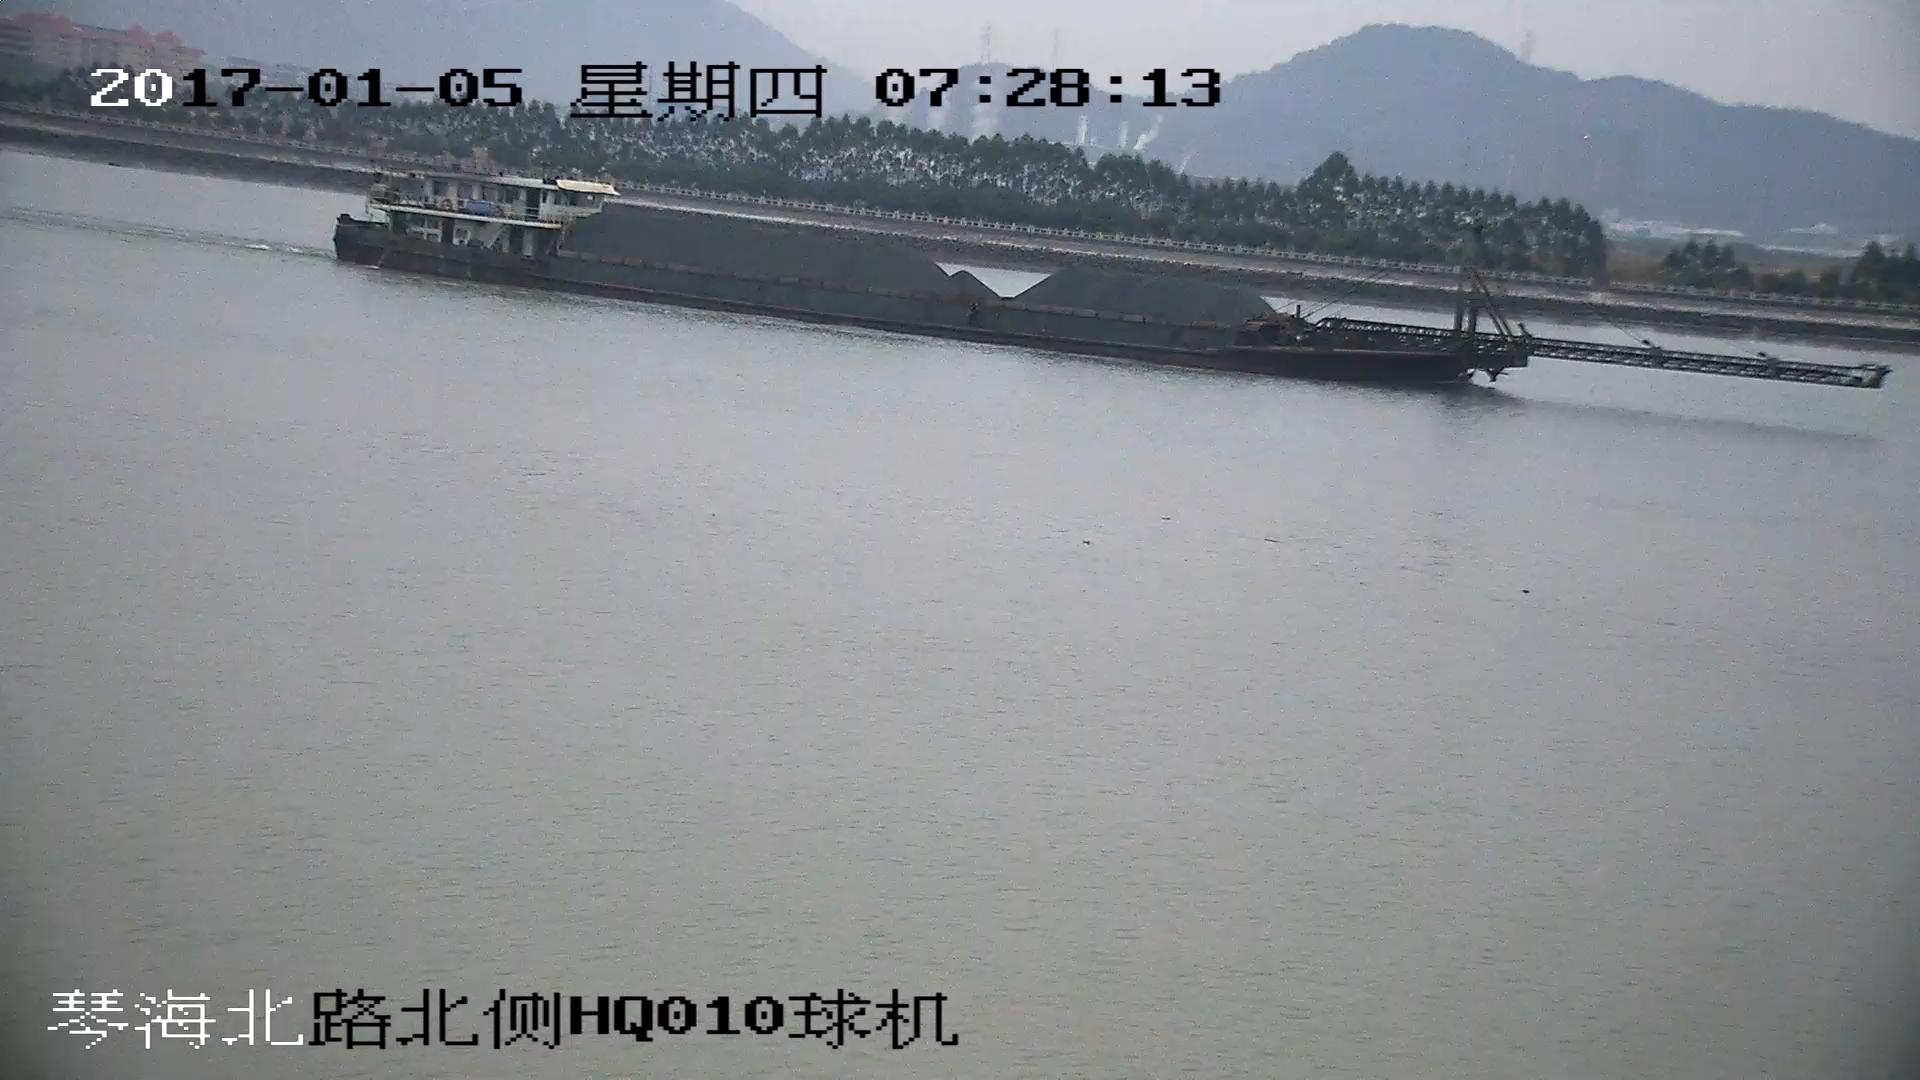ore carrier: (331, 170, 1889, 392)
